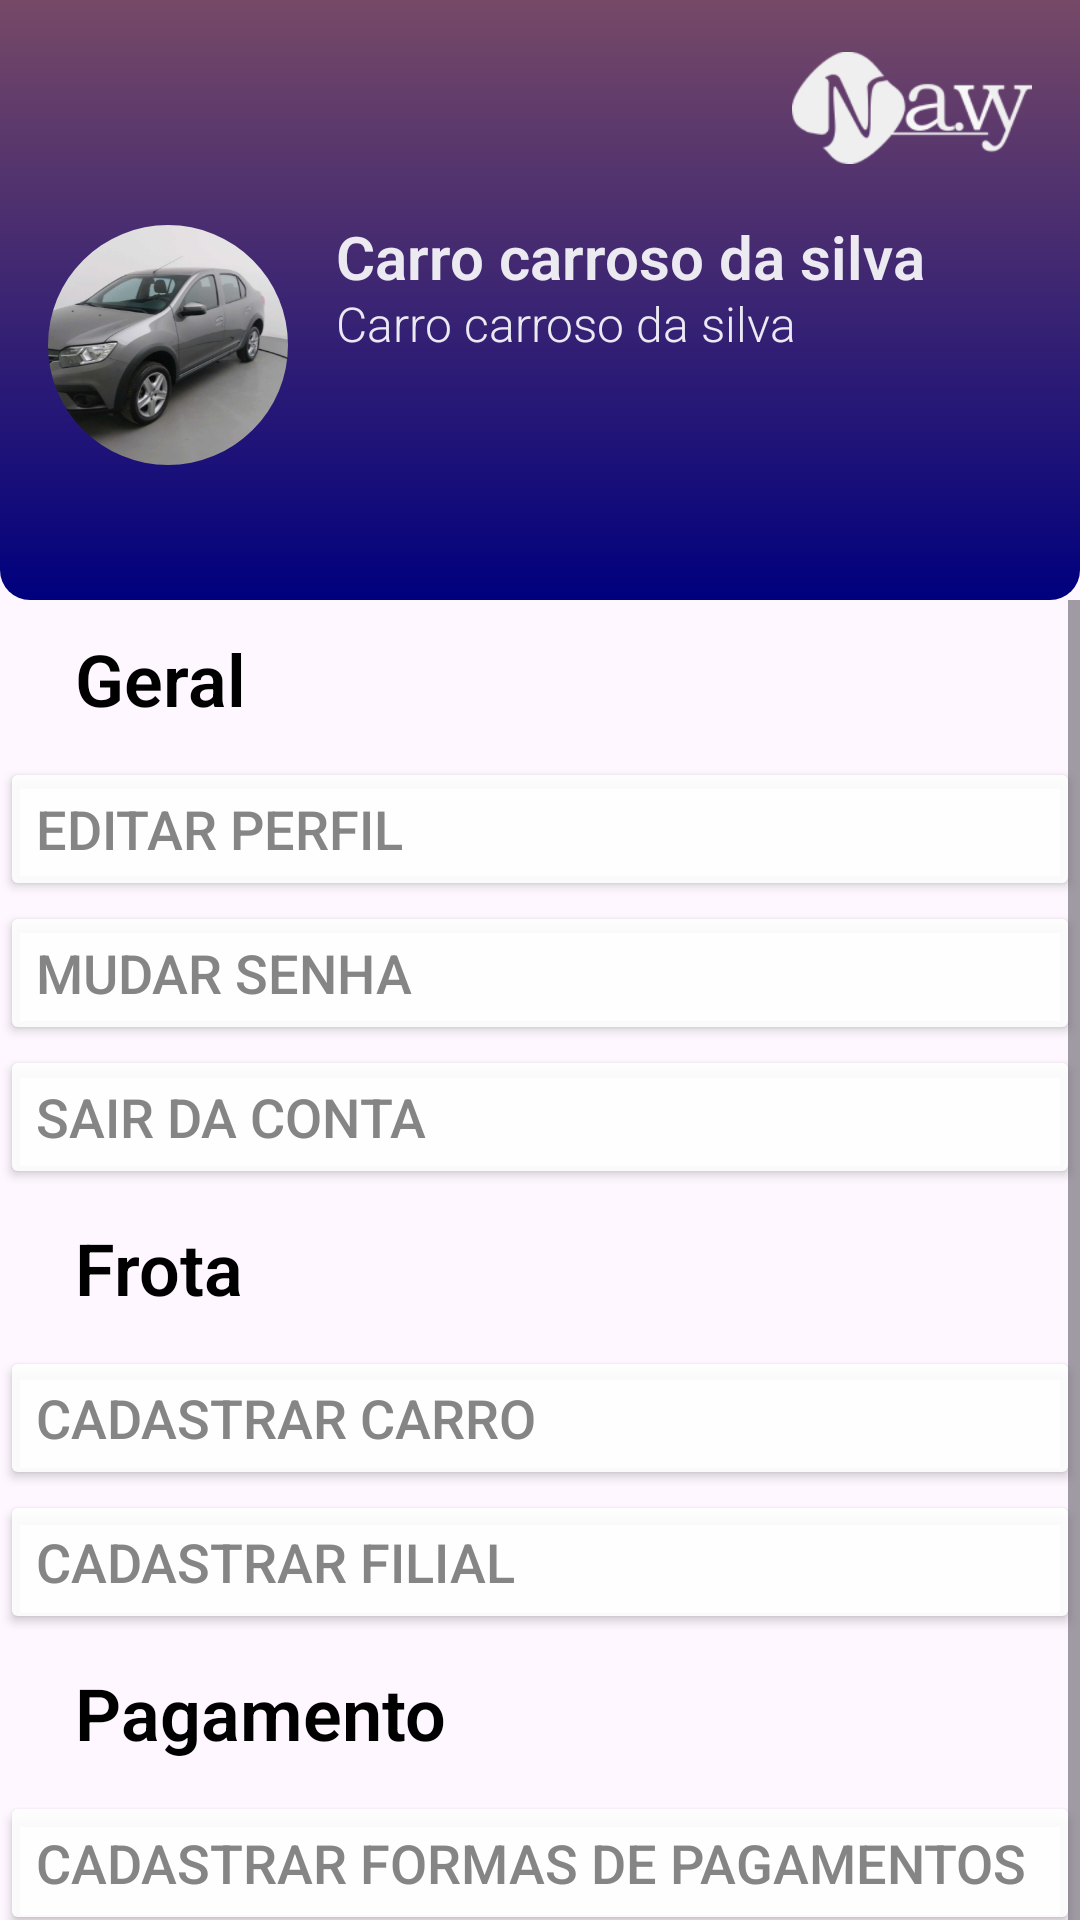

Where to tap for icons on this 1080px×1920px app screen, as [x,y]:
carro exemplo: [168,345]
